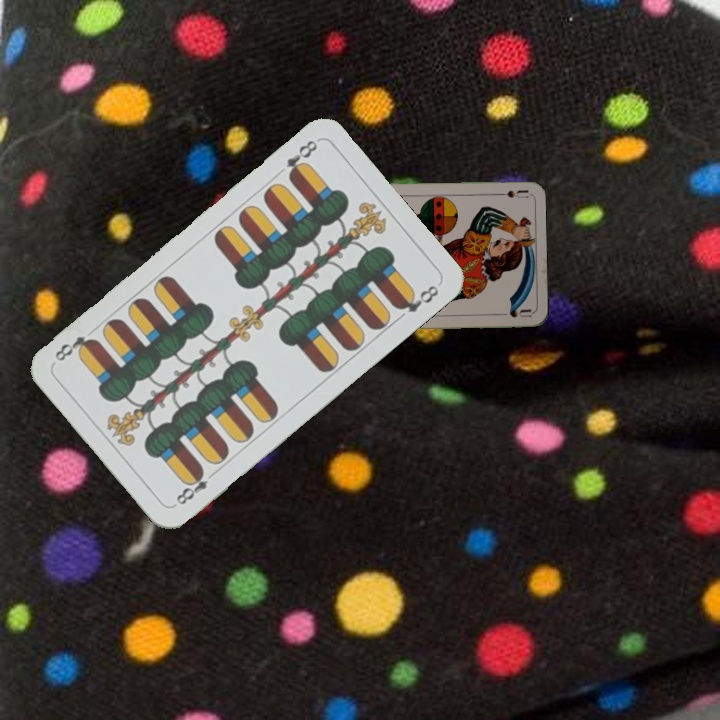E8: (172, 465, 220, 508), (281, 135, 320, 183)
SU: (489, 186, 529, 200)
